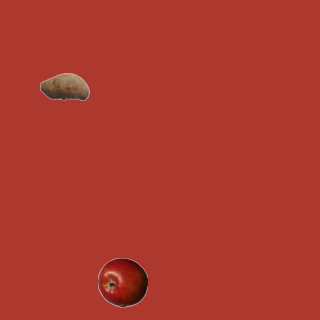Apple Braeburn: (97, 257, 147, 307)
Potato Sweet: (39, 61, 89, 111)
